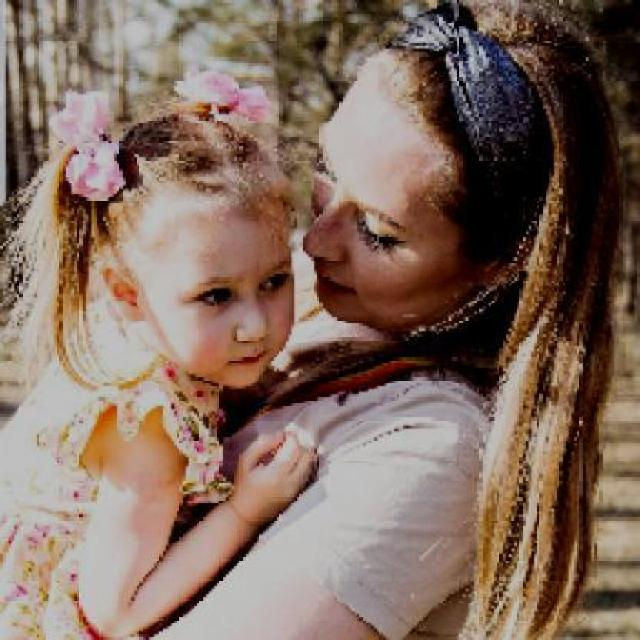child: (3, 102, 320, 638)
